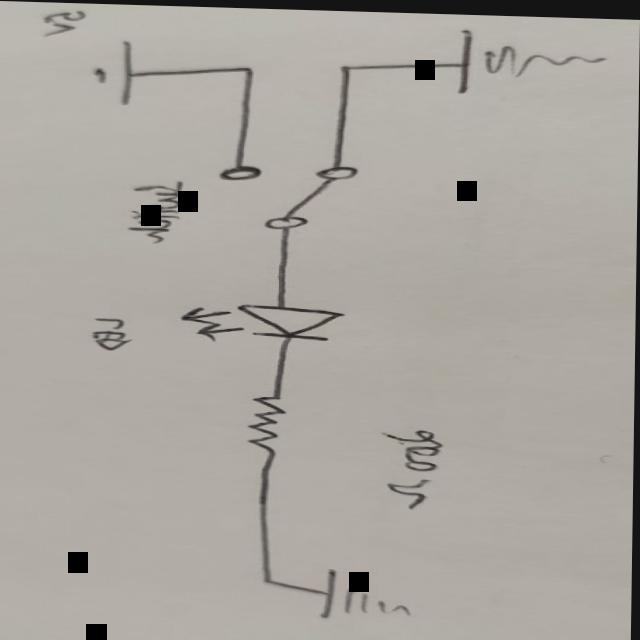diode: (181, 298, 350, 340)
ground: (452, 25, 608, 93), (319, 566, 416, 617)
junction: (228, 61, 265, 73), (254, 571, 286, 584), (331, 60, 365, 71)
resistor: (242, 390, 289, 448)
source: (84, 38, 136, 104)
switch: (212, 157, 363, 230)
text: (373, 424, 446, 507), (121, 176, 184, 242), (84, 314, 134, 350), (35, 7, 86, 36)
